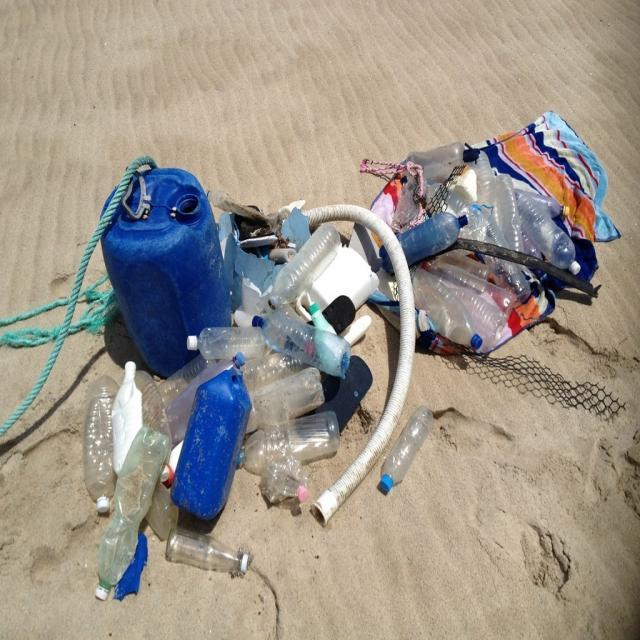Plastics: (64, 117, 587, 608)
